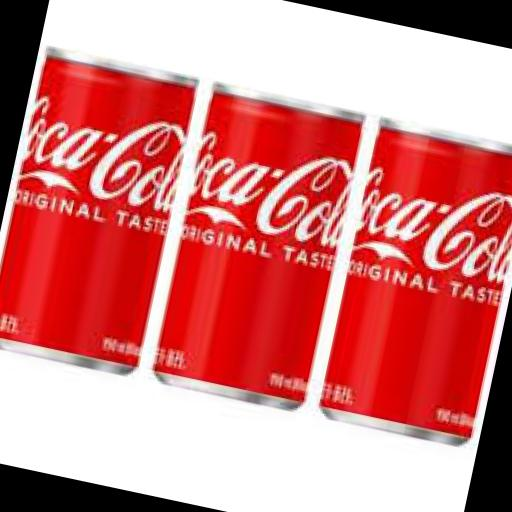Coca: (144, 72, 374, 418), (307, 102, 512, 454), (0, 35, 205, 380)
